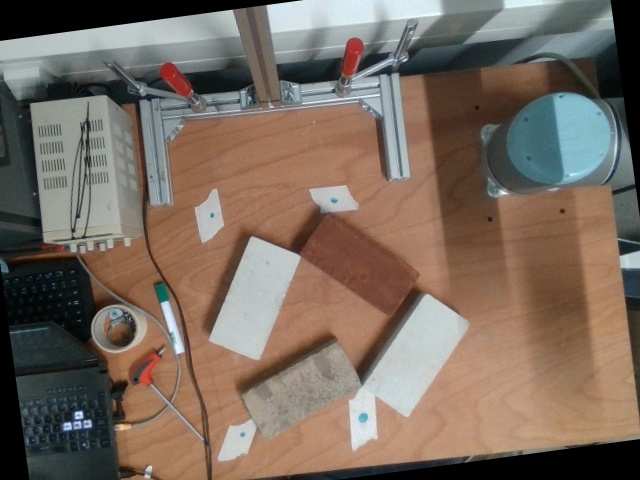brick: (362, 293, 470, 417), (239, 342, 362, 442), (301, 214, 416, 314), (208, 237, 300, 361)
